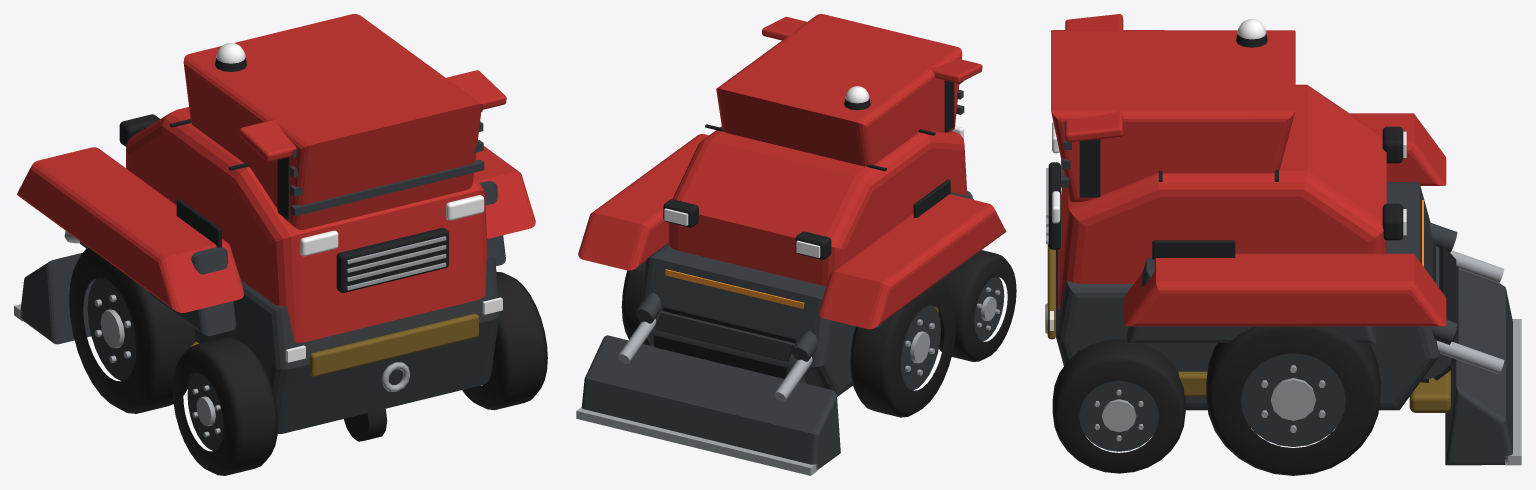
The model's file is Machine_racer_T2.glb.
The picture shows the model from 3 angles, left to right: view 1: azimuth 30°, elevation 25°; view 2: azimuth 150°, elevation 25°; view 3: azimuth 270°, elevation 25°; orthographic projection. The views are drawn at different scales.
Visible parts, largest first — view 1: Tier2_Parts_MAT_Player_Shell_18, Tier1_Parts_MAT_Player_Shell_9, Tier1_Parts_MAT_Player_Gunmetal_8, Axle_Rear_MAT_tread_14, Axle_Front_MAT_tread_5, Tier1_Parts_MAT_darkTrim_10, Tier2_Parts_MAT_Player_Gunmetal_19, Tier1_Parts_MAT_Player_Hazard_12, Axle_Front_MAT_Player_Gunmetal_6, Tier1_Parts_MAT_steel_11, Tier1_Parts_MAT_lamps_13, Axle_Rear_MAT_Player_Gunmetal_15 (+2 smaller); view 2: Tier2_Parts_MAT_Player_Shell_18, Tier1_Parts_MAT_Player_Shell_9, Tier2_Parts_MAT_Player_Gunmetal_19, Tier1_Parts_MAT_Player_Gunmetal_8, Axle_Front_MAT_tread_5, Intake_Roller_MAT_darkTrim_1, Axle_Rear_MAT_tread_14, Tier2_Parts_MAT_steel_21, Tier1_Parts_MAT_darkTrim_10, Axle_Front_MAT_Player_Gunmetal_6, Roller_Core_0, Axle_Rear_MAT_Player_Gunmetal_15 (+3 smaller); view 3: Tier2_Parts_MAT_Player_Shell_18, Tier1_Parts_MAT_Player_Shell_9, Tier1_Parts_MAT_Player_Gunmetal_8, Axle_Front_MAT_tread_5, Tier2_Parts_MAT_Player_Gunmetal_19, Axle_Rear_MAT_tread_14, Axle_Front_MAT_Player_Gunmetal_6, Tier1_Parts_MAT_darkTrim_10, Axle_Rear_MAT_Player_Gunmetal_15, Tier2_Parts_MAT_steel_21, Tier1_Parts_MAT_Player_Hazard_12, Axle_Front_MAT_steel_7 (+4 smaller).
Part boxes in pixels (bbox=[...]): Tier2_Parts_MAT_Player_Shell_18: bbox=[16, 14, 535, 312]; Tier1_Parts_MAT_Player_Shell_9: bbox=[126, 70, 506, 342]; Tier1_Parts_MAT_Player_Gunmetal_8: bbox=[80, 181, 505, 433]; Axle_Rear_MAT_tread_14: bbox=[172, 271, 547, 475]; Axle_Front_MAT_tread_5: bbox=[69, 247, 197, 413]; Tier1_Parts_MAT_darkTrim_10: bbox=[119, 114, 448, 441]; Tier2_Parts_MAT_Player_Gunmetal_19: bbox=[20, 104, 484, 344]; Tier1_Parts_MAT_Player_Hazard_12: bbox=[191, 313, 478, 376]; Axle_Front_MAT_Player_Gunmetal_6: bbox=[87, 278, 136, 380]; Tier1_Parts_MAT_steel_11: bbox=[346, 236, 446, 391]; Tier1_Parts_MAT_lamps_13: bbox=[285, 195, 502, 362]; Axle_Rear_MAT_Player_Gunmetal_15: bbox=[187, 359, 493, 450]; Tier2_Parts_MAT_Player_Shell_18: bbox=[578, 14, 1006, 329]; Tier1_Parts_MAT_Player_Shell_9: bbox=[668, 16, 982, 286]; Tier2_Parts_MAT_Player_Gunmetal_19: bbox=[581, 81, 964, 469]; Tier1_Parts_MAT_Player_Gunmetal_8: bbox=[635, 190, 981, 396]; Axle_Front_MAT_tread_5: bbox=[621, 269, 956, 417]; Intake_Roller_MAT_darkTrim_1: bbox=[654, 306, 796, 378]; Axle_Rear_MAT_tread_14: bbox=[938, 250, 1016, 361]; Tier2_Parts_MAT_steel_21: bbox=[576, 318, 817, 475]; Tier1_Parts_MAT_darkTrim_10: bbox=[663, 80, 954, 259]; Axle_Front_MAT_Player_Gunmetal_6: bbox=[901, 305, 940, 390]; Roller_Core_0: bbox=[653, 311, 806, 383]; Axle_Rear_MAT_Player_Gunmetal_15: bbox=[974, 277, 1004, 341]; Tier2_Parts_MAT_Player_Shell_18: bbox=[1051, 30, 1446, 326]; Tier1_Parts_MAT_Player_Shell_9: bbox=[1058, 14, 1386, 311]; Tier1_Parts_MAT_Player_Gunmetal_8: bbox=[1056, 182, 1439, 410]; Axle_Front_MAT_tread_5: bbox=[1206, 326, 1380, 475]; Tier2_Parts_MAT_Player_Gunmetal_19: bbox=[1061, 122, 1512, 465]; Axle_Rear_MAT_tread_14: bbox=[1052, 339, 1185, 473]; Axle_Front_MAT_Player_Gunmetal_6: bbox=[1241, 353, 1345, 446]; Tier1_Parts_MAT_darkTrim_10: bbox=[1048, 126, 1403, 259]; Axle_Rear_MAT_Player_Gunmetal_15: bbox=[1079, 380, 1158, 451]; Tier2_Parts_MAT_steel_21: bbox=[1436, 250, 1521, 465]; Tier1_Parts_MAT_Player_Hazard_12: bbox=[1047, 244, 1450, 412]; Axle_Front_MAT_steel_7: bbox=[1261, 365, 1325, 432].
Size of the model in its own units: 1 by 0.935 by 1.15.
